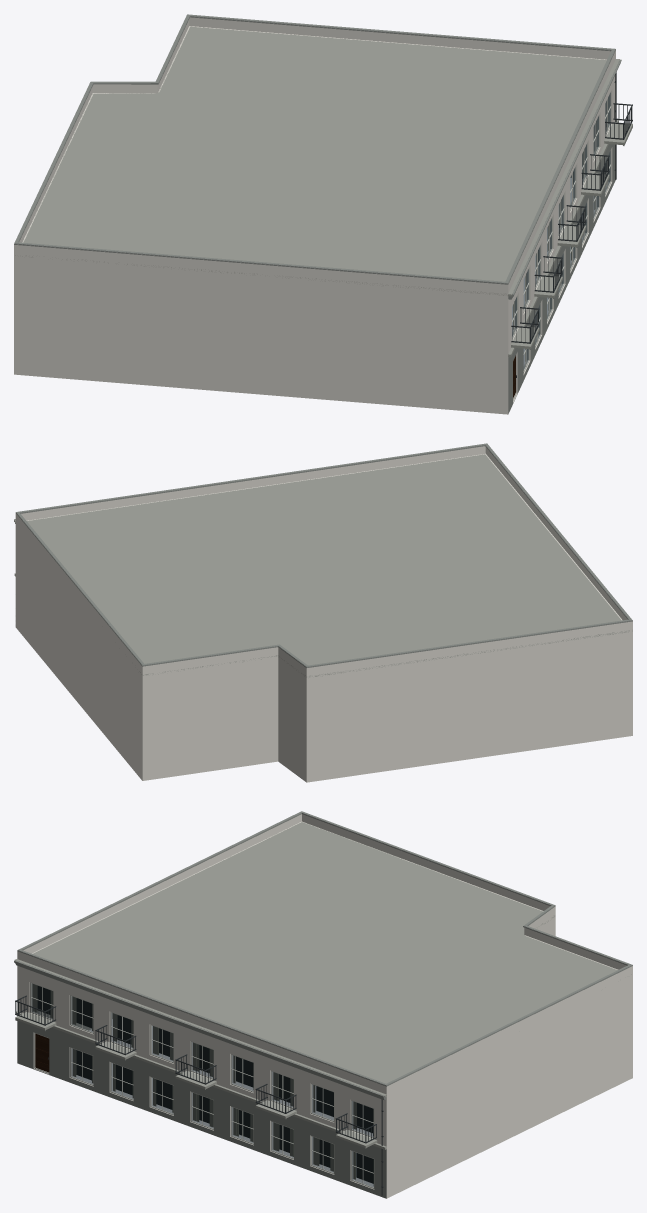
Rendered from building.glb.
The picture shows the model from 3 angles, top to bottom: view 1: azimuth 30°, elevation 25°; view 2: azimuth 150°, elevation 25°; view 3: azimuth 270°, elevation 25°; orthographic projection. The views are drawn at different scales.
Visible parts, largest first — view 1: roof/main:0/roof_slab#0001, main:0/edge0/z0/main:0/edge0/z0/wall_0_0/core0, roof/main:0/parapet#0001, main:0/edge1/z0/main:0/edge1/z0/wall_0_0/core0, roof/main:0/parapet_cap#0002, roof/main:0/parapet_cap#0001, main:0/edge1/z0/top_cornice#0001, main:0/edge1/z0/proj_cornice_00/cornice_drip#0001, main:0/edge1/z0/main:0/edge1/z0/coating_0_0_0/clip2, main:0/edge1/z0/floor_slab#0001, main:0/edge1/z0/main:0/edge1/z0/coating_0_0_0/clip15, main:0/edge2/z0/main:0/edge2/z0/wall_0_0/core0; view 2: roof/main:0/roof_slab#0001, main:0/edge5/z0/main:0/edge5/z0/wall_0_0/clip0, main:0/edge3/z0/main:0/edge3/z0/wall_0_0, main:0/edge2/z0/main:0/edge2/z0/wall_0_0/core0, roof/main:0/parapet#0001, roof/main:0/parapet_cap#0002, main:0/edge4/z0/main:0/edge4/z0/wall_0_0, roof/main:0/parapet_cap#0001, main:0/edge1/z0/main:0/edge1/z0/wall_0_0/core0; view 3: roof/main:0/roof_slab#0001, main:0/edge2/z0/main:0/edge2/z0/wall_0_0/core0, main:0/edge1/z0/main:0/edge1/z0/wall_0_0/core0, roof/main:0/parapet#0001, main:0/edge1/z0/main:0/edge1/z0/coating_0_0_0/clip15, roof/main:0/parapet_cap#0002, roof/main:0/parapet_cap#0001, main:0/edge1/z0/main:0/edge1/z0/coating_0_0_0/clip2, main:0/edge1/z0/top_cornice#0001, main:0/edge1/z0/floor_slab#0001, main:0/edge1/z0/proj_cornice_00/cornice_drip#0001, main:0/edge1/z0/main:0/edge1/z0/coating_0_0_0/clip14 (+21 smaller).
Boxes of the visible parts, x1,y1,x2,y2 form: roof/main:0/roof_slab#0001: (15, 26, 606, 295); main:0/edge0/z0/main:0/edge0/z0/wall_0_0/core0: (14, 254, 508, 414); roof/main:0/parapet#0001: (14, 17, 615, 293); main:0/edge1/z0/main:0/edge1/z0/wall_0_0/core0: (508, 76, 614, 402); roof/main:0/parapet_cap#0002: (14, 14, 615, 283); roof/main:0/parapet_cap#0001: (14, 15, 615, 284); main:0/edge1/z0/top_cornice#0001: (508, 59, 619, 296); main:0/edge1/z0/proj_cornice_00/cornice_drip#0001: (512, 59, 621, 295); main:0/edge1/z0/main:0/edge1/z0/coating_0_0_0/clip2: (517, 176, 615, 392); main:0/edge1/z0/floor_slab#0001: (508, 120, 618, 357); main:0/edge1/z0/main:0/edge1/z0/coating_0_0_0/clip15: (508, 144, 612, 370); main:0/edge2/z0/main:0/edge2/z0/wall_0_0/core0: (189, 26, 606, 177); roof/main:0/roof_slab#0001: (27, 454, 632, 677); main:0/edge5/z0/main:0/edge5/z0/wall_0_0/clip0: (306, 630, 632, 782); main:0/edge3/z0/main:0/edge3/z0/wall_0_0: (142, 655, 278, 780); main:0/edge2/z0/main:0/edge2/z0/wall_0_0/core0: (16, 522, 142, 780); roof/main:0/parapet#0001: (15, 446, 632, 675); roof/main:0/parapet_cap#0002: (16, 443, 632, 666); main:0/edge4/z0/main:0/edge4/z0/wall_0_0: (278, 655, 306, 782); roof/main:0/parapet_cap#0001: (15, 445, 632, 667); main:0/edge1/z0/main:0/edge1/z0/wall_0_0/core0: (26, 454, 485, 520); roof/main:0/roof_slab#0001: (33, 822, 631, 1083); main:0/edge2/z0/main:0/edge2/z0/wall_0_0/core0: (386, 974, 632, 1198); main:0/edge1/z0/main:0/edge1/z0/wall_0_0/core0: (17, 966, 386, 1189); roof/main:0/parapet#0001: (17, 814, 632, 1094); main:0/edge1/z0/main:0/edge1/z0/coating_0_0_0/clip15: (17, 1015, 386, 1161); roof/main:0/parapet_cap#0002: (18, 811, 632, 1085); roof/main:0/parapet_cap#0001: (17, 813, 632, 1086); main:0/edge1/z0/main:0/edge1/z0/coating_0_0_0/clip2: (49, 1070, 386, 1197); main:0/edge1/z0/top_cornice#0001: (15, 959, 386, 1097); main:0/edge1/z0/floor_slab#0001: (16, 1011, 386, 1149); main:0/edge1/z0/proj_cornice_00/cornice_drip#0001: (14, 960, 384, 1096); main:0/edge1/z0/main:0/edge1/z0/coating_0_0_0/clip14: (49, 1038, 386, 1163).
Bounding box in the file's own units: 37.56 × 7.17 × 35.5.
9 materials, 1 textured.
